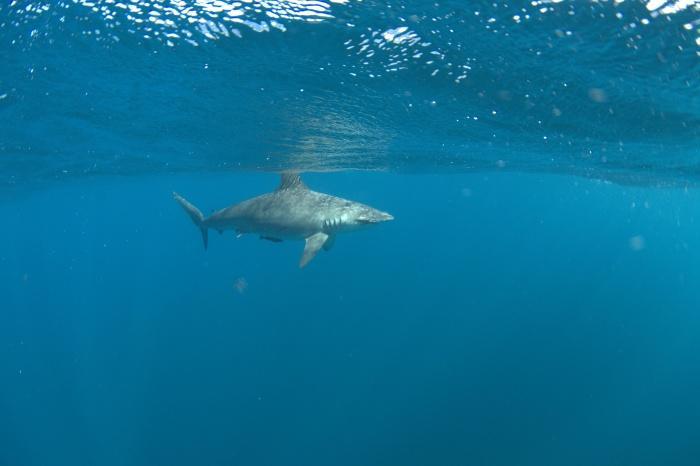Hammer: (137, 155, 421, 288)
